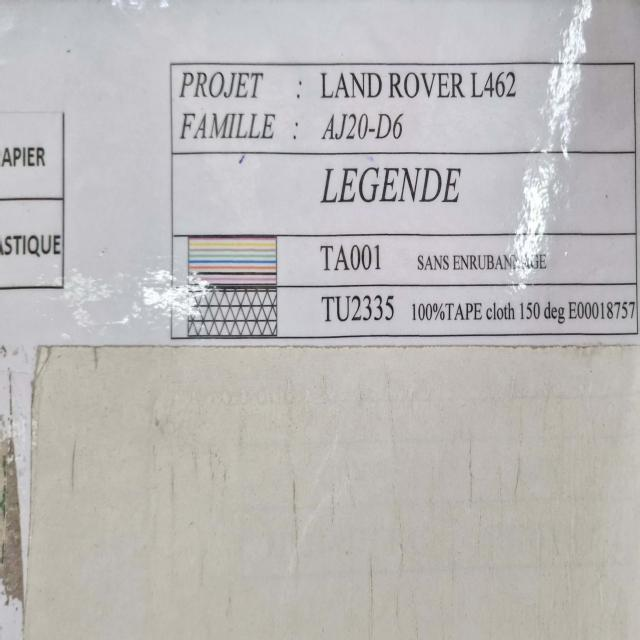Etiquette_Famille_AJ20_D-: (150, 29, 640, 362)
